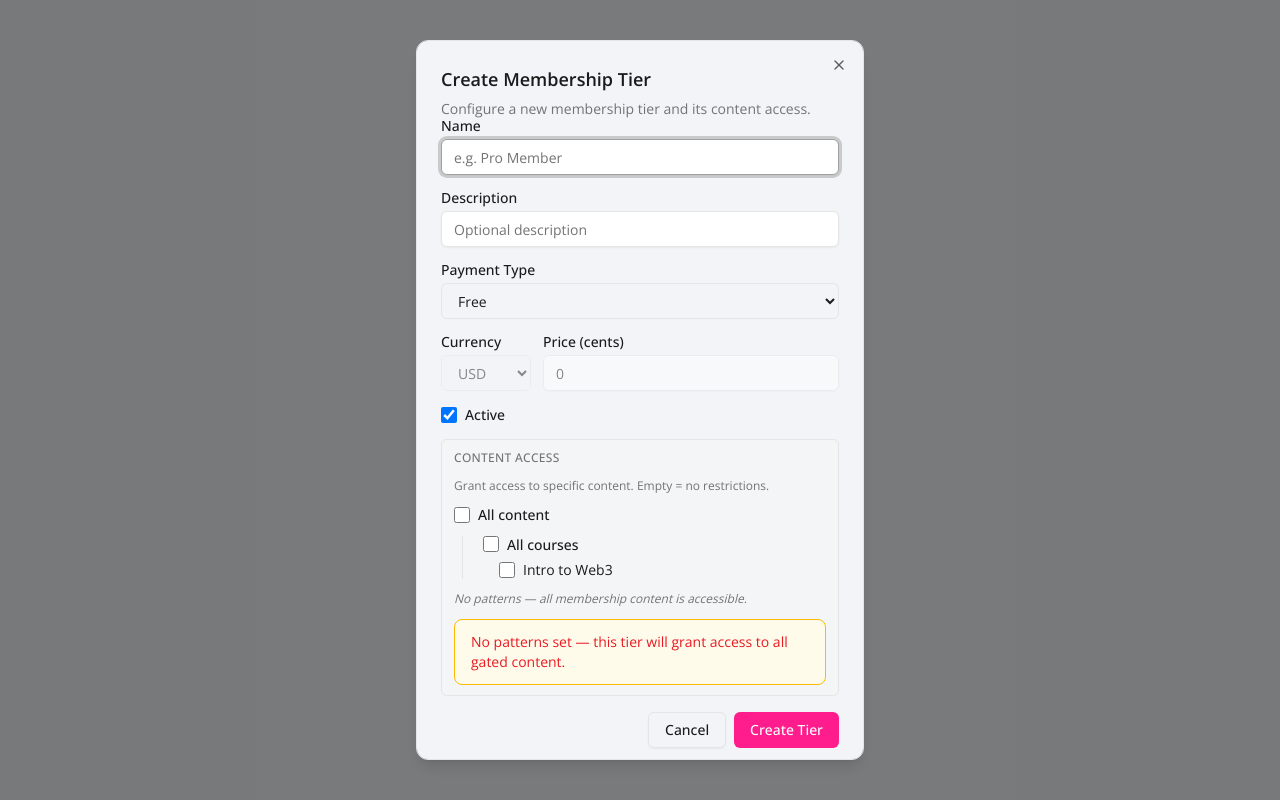
Test: TierFormDialog — Content Access section › adds all-courses pattern by checking All courses checkbox
This screenshot has width=1280, height=800.
Click the checkbox labelled "All courses" at (491, 544), box [483, 536, 499, 552]
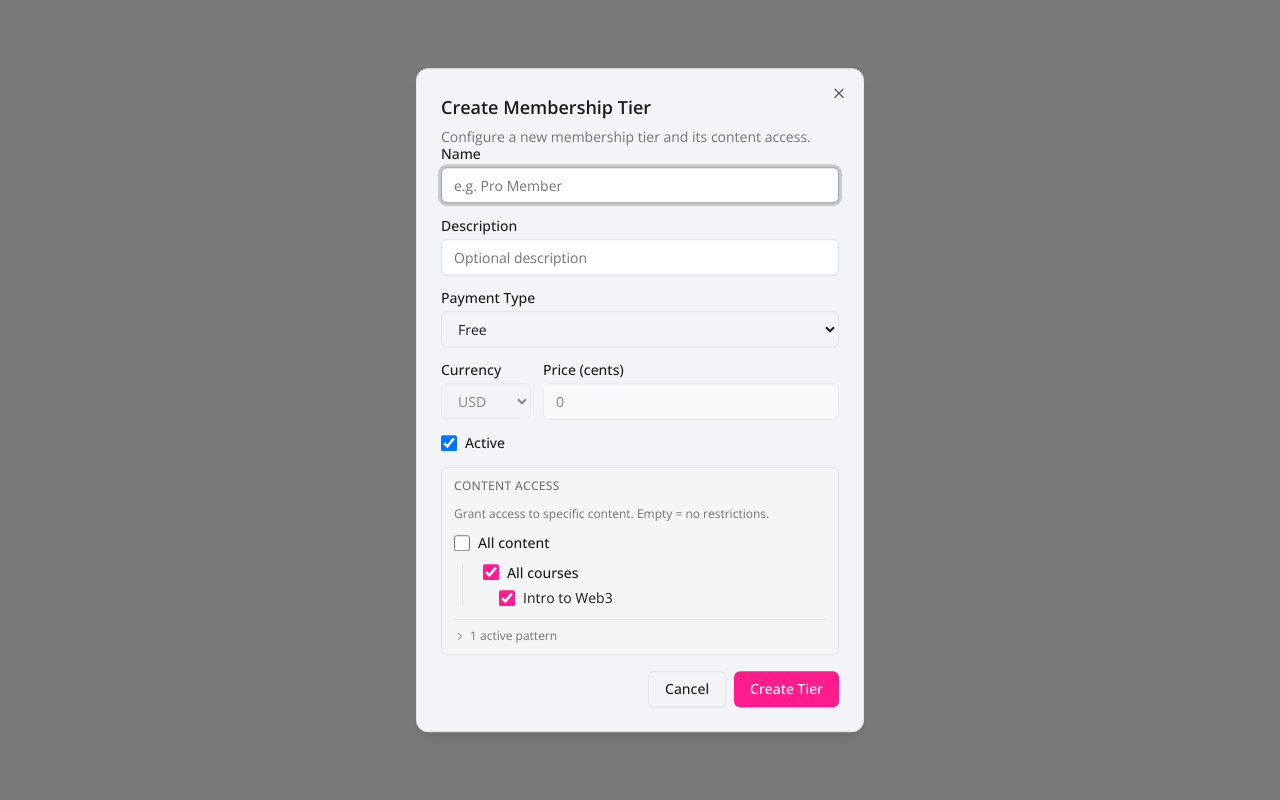
Expected: the button "1 active pattern" is shown, [454, 628, 557, 644]
